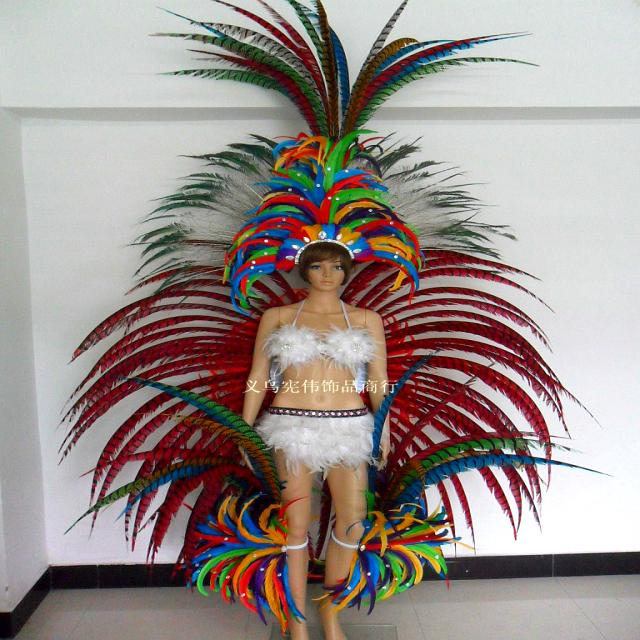Phasianus Colchicus: (142, 0, 542, 136), (117, 377, 287, 497)
